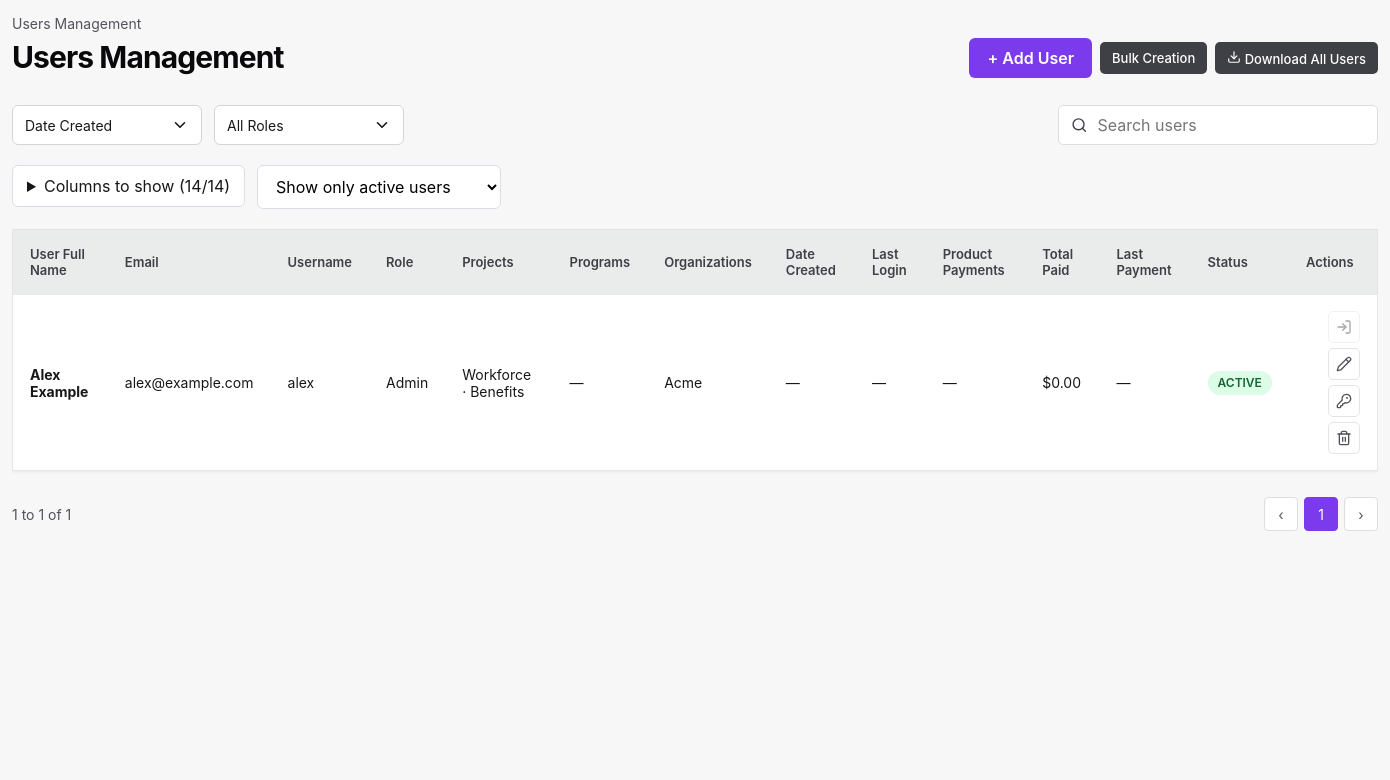
it: defaults to active users and filters disabled or all users alongside search
The image size is (1390, 780).
Expected: the text "Alex Example" is shown, left=30, top=366, right=88, bottom=400
Expected: the text "Blair Example" is not shown
Select "Show only disabled users" in the dropdown named "Filter by user status" at (379, 187), box left=257, top=165, right=501, bottom=209
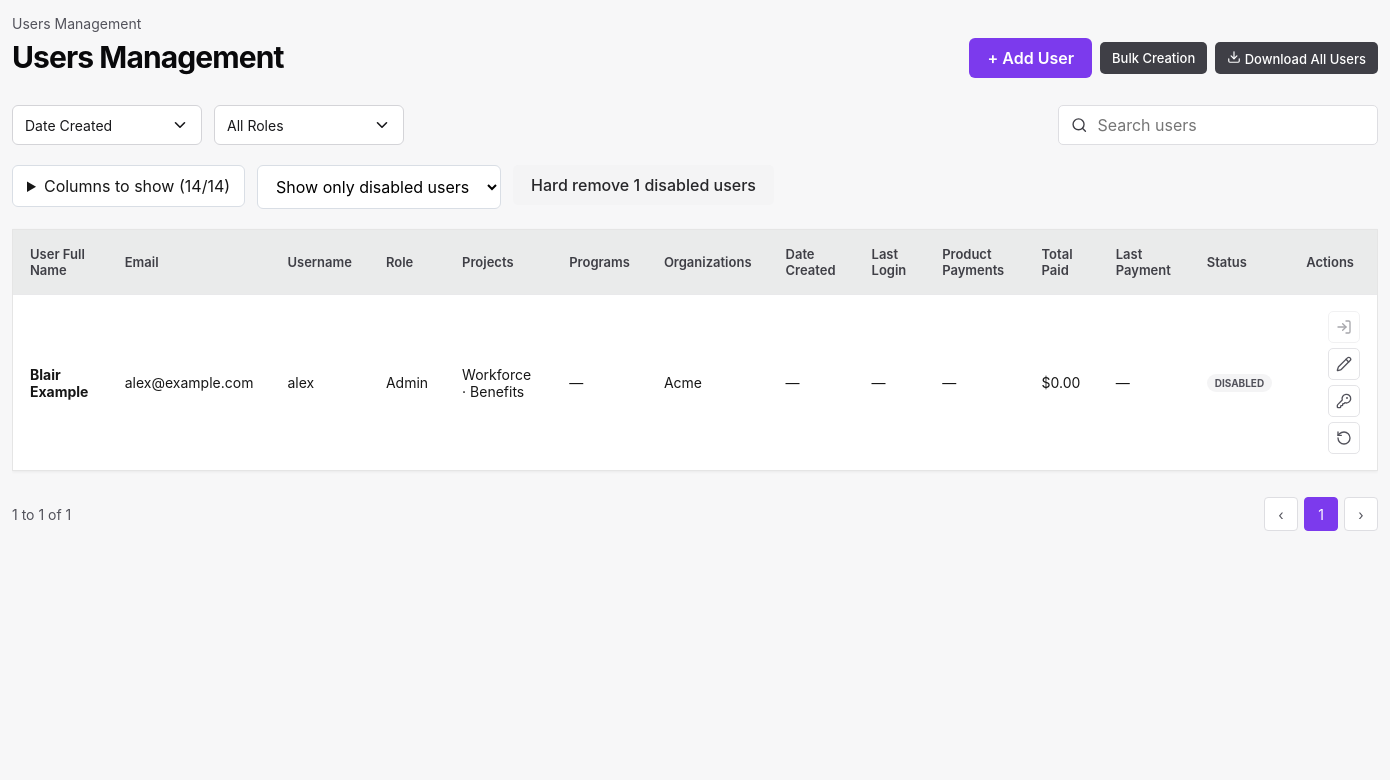
Now the text "Blair Example" is shown, box left=30, top=366, right=88, bottom=400
Now the text "Alex Example" is gone
Select "Show all users" in the dropdown named "Filter by user status" at (379, 187), box left=257, top=165, right=501, bottom=209
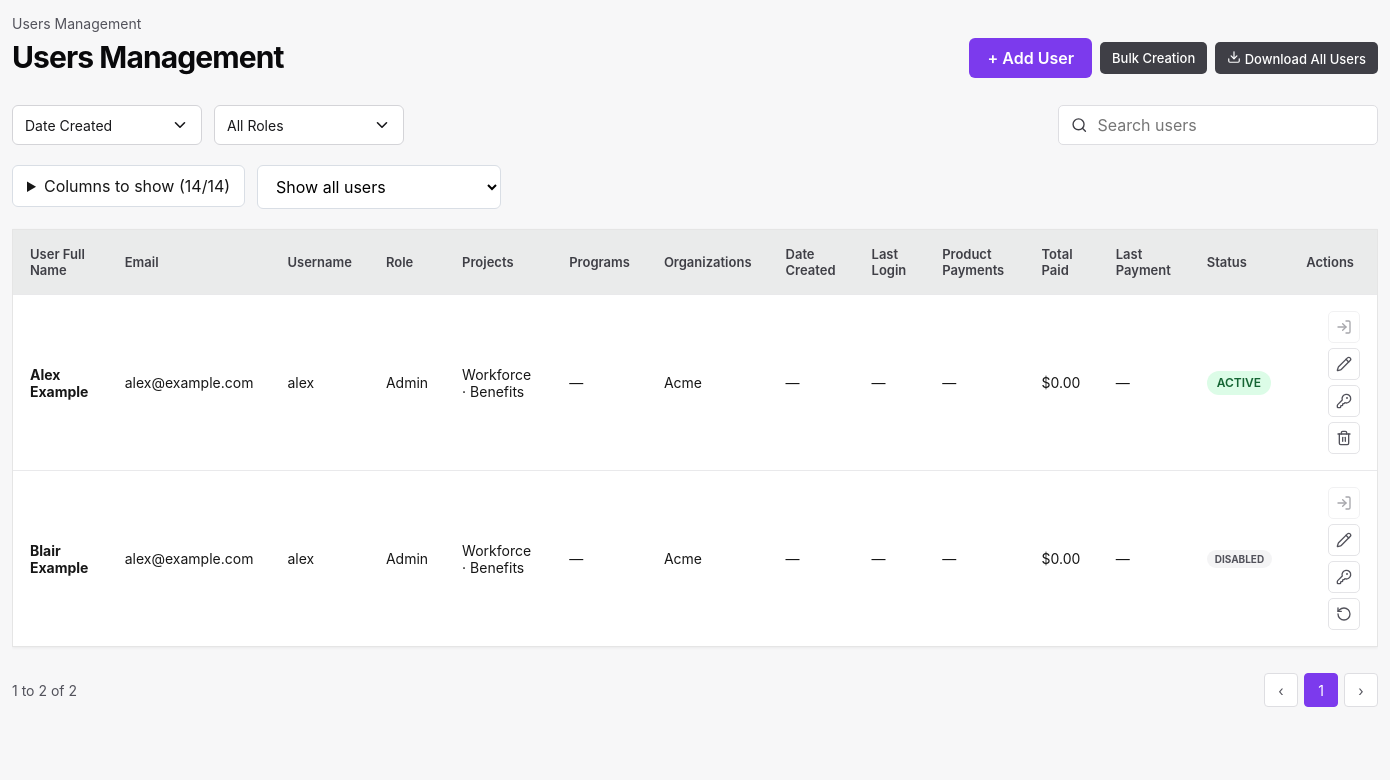
Now the text "Blair Example" is shown, box left=30, top=542, right=88, bottom=576
Now the text "Alex Example" is shown, box left=30, top=366, right=88, bottom=400
Type "Blair" into the search field with placeholder "Search users".
click(1230, 125); type("Blair")  # box left=1096, top=114, right=1365, bottom=136
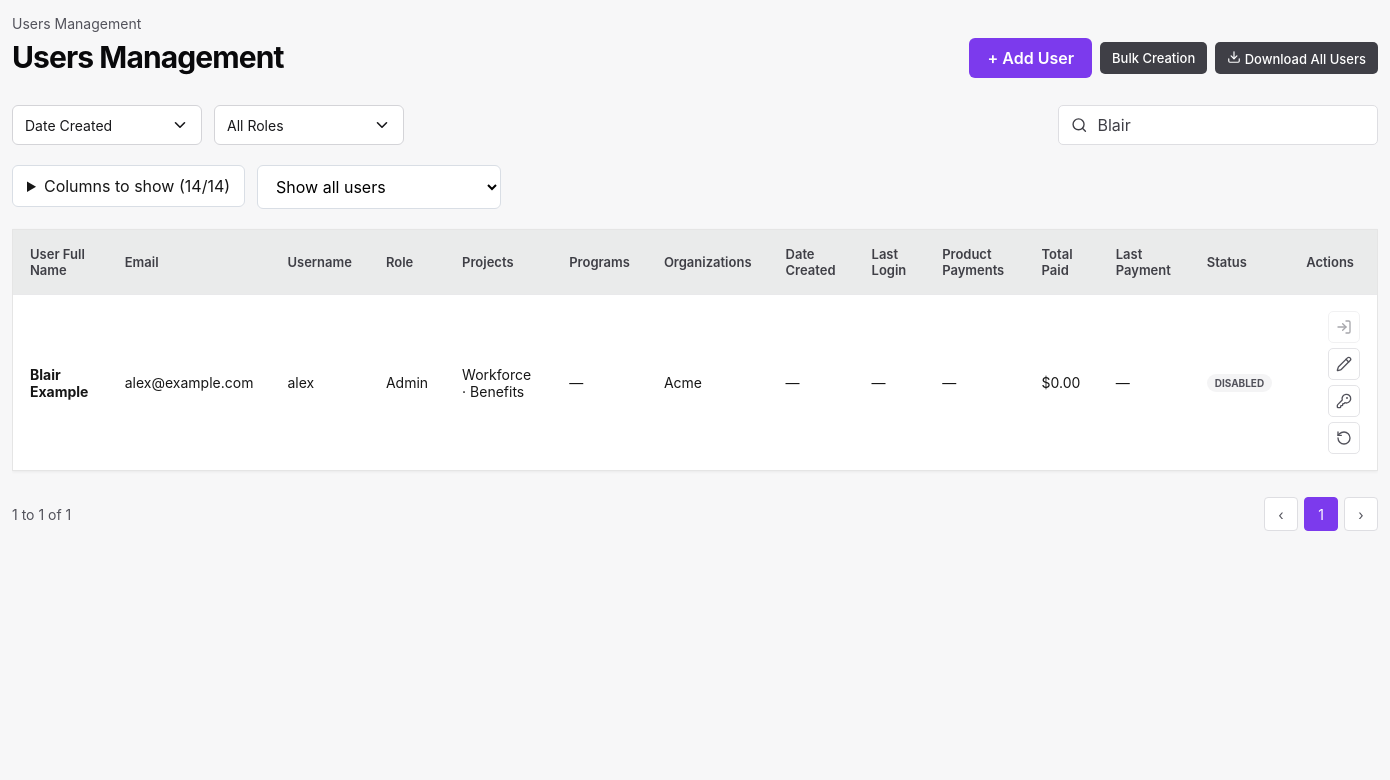
Now the text "Blair Example" is shown, box left=30, top=366, right=88, bottom=400
Now the text "Alex Example" is gone
Select "Show only active users" in the dropdown named "Filter by user status" at (379, 187), box left=257, top=165, right=501, bottom=209
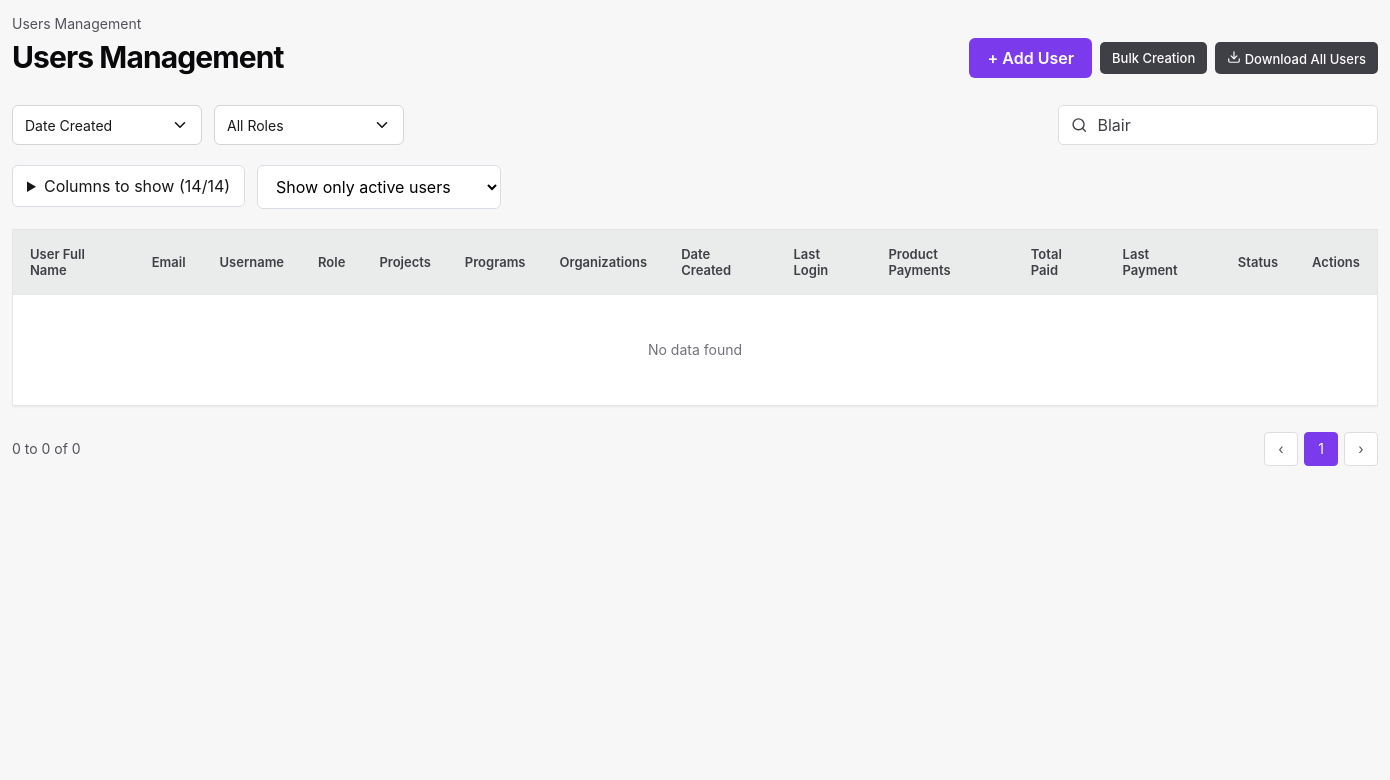
Now the text "Blair Example" is gone
